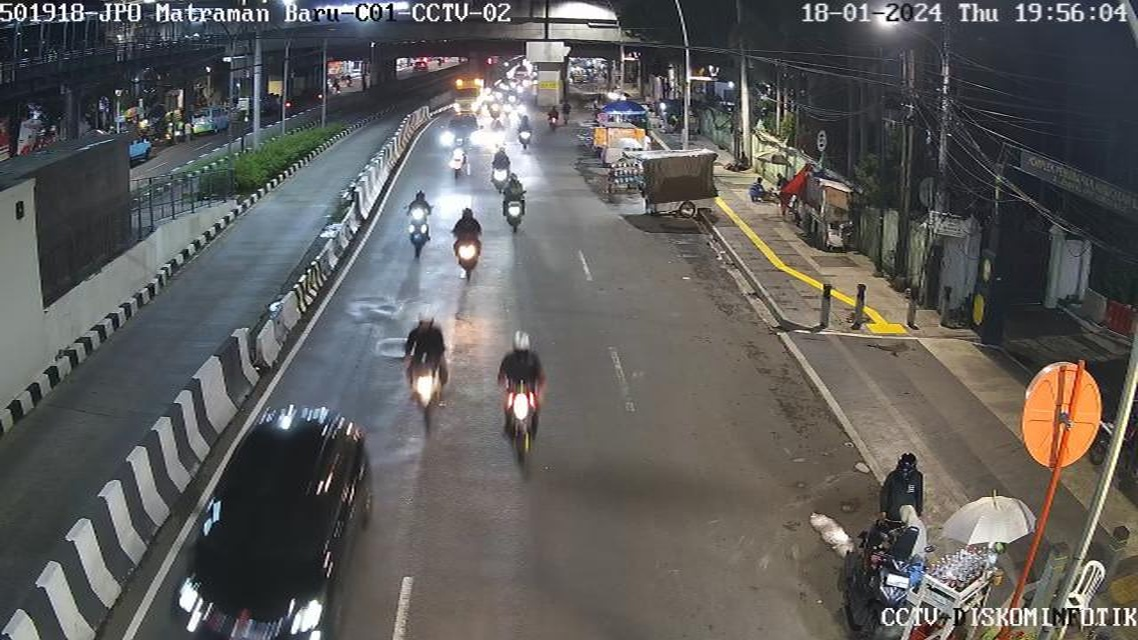Gerobak: (886, 545, 1007, 640), (635, 150, 747, 244)
